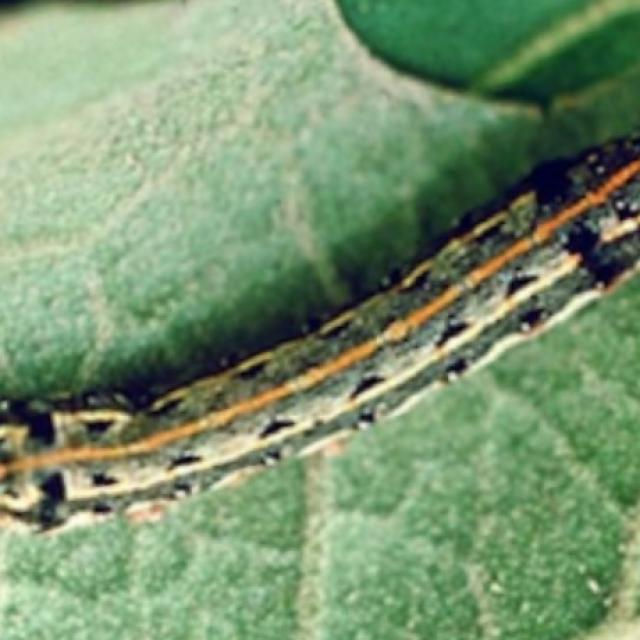armyworm: (3, 110, 640, 542)
